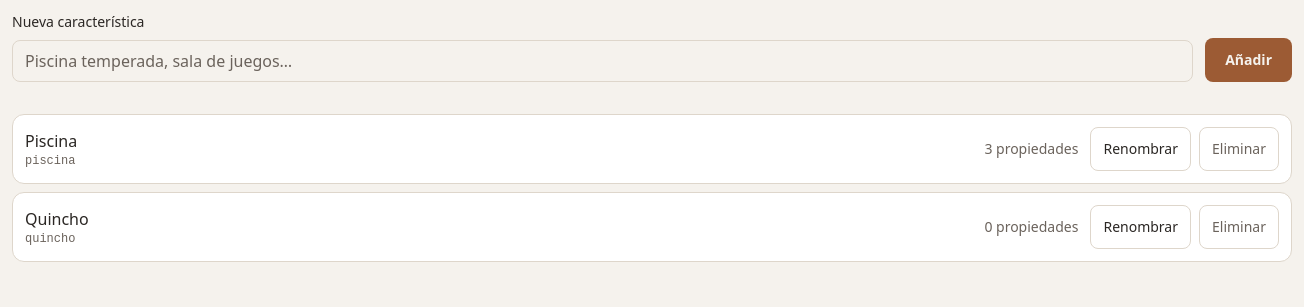
it: FeatureManager › deja la fila abierta y el texto puesto si el guardado falla
Click the button named "Renombrar Piscina": x=1141, y=149 top-left (1090, 127), bottom-right (1191, 171)
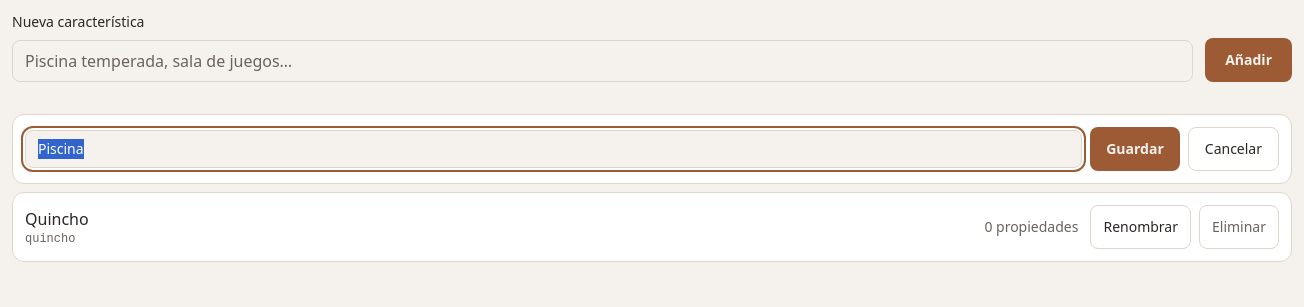
Replace the text in the field named "Nombre de Piscina" with "Quincho": x=554, y=149 top-left (25, 130), bottom-right (1082, 168)
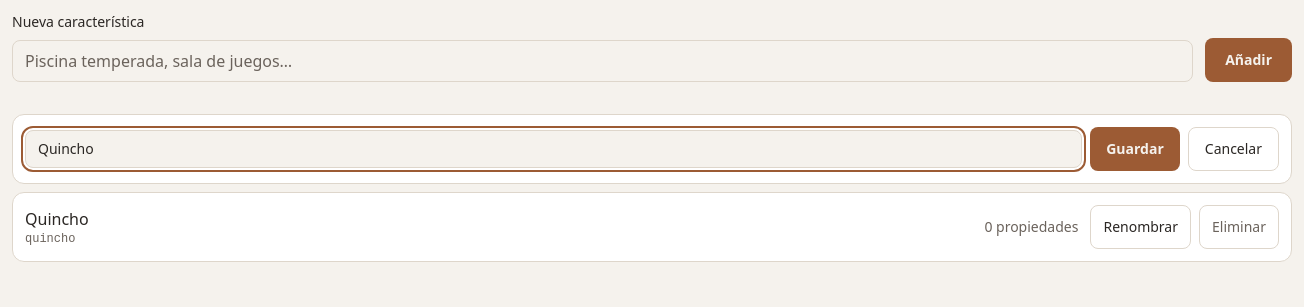
Click the button "Guardar": x=1135, y=149 top-left (1090, 127), bottom-right (1180, 171)
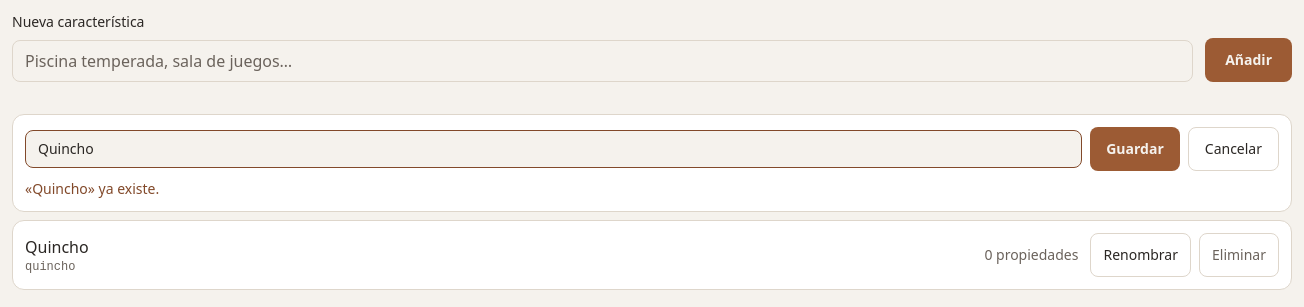
Now the text "«Quincho» ya existe." is shown, box top-left (25, 179), bottom-right (159, 198)
